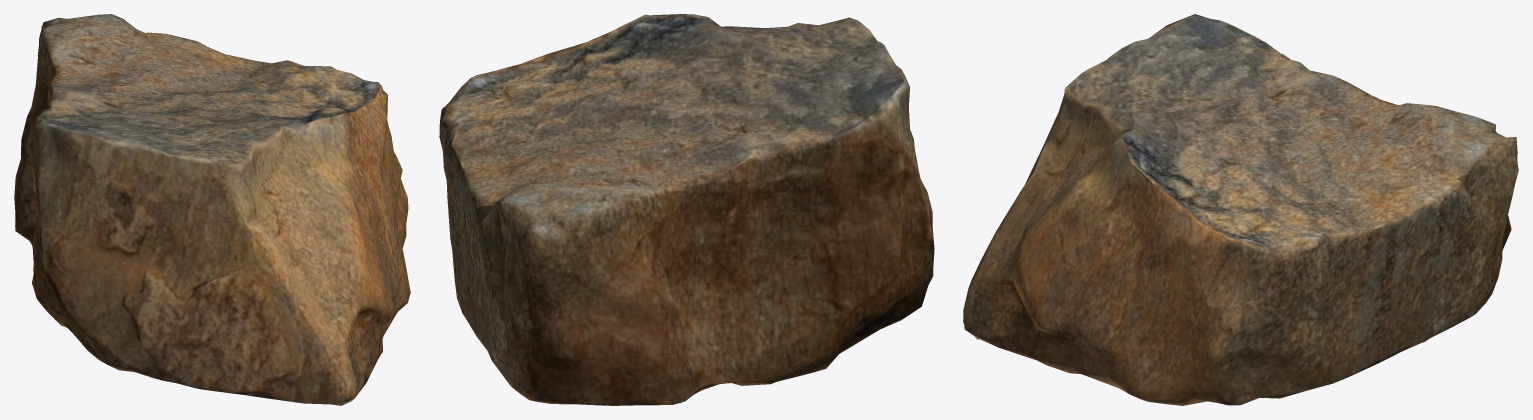
The model's file is namaqualand_boulder_03.glb.
3 renders of one model, left to right at view 1: azimuth 30°, elevation 25°; view 2: azimuth 150°, elevation 25°; view 3: azimuth 270°, elevation 25°, orthographic. The views are drawn at different scales.
Visible parts, largest first — view 1: boulder_03_LOD0; view 2: boulder_03_LOD0; view 3: boulder_03_LOD0.
Part boxes in pixels (left/top/right/bottom): boulder_03_LOD0: left=14, top=14, right=410, bottom=405; boulder_03_LOD0: left=439, top=14, right=934, bottom=405; boulder_03_LOD0: left=963, top=14, right=1518, bottom=405.
Bounding box in the file's own units: 2.4 × 1.47 × 3.06.
1 material, 1 textured.
